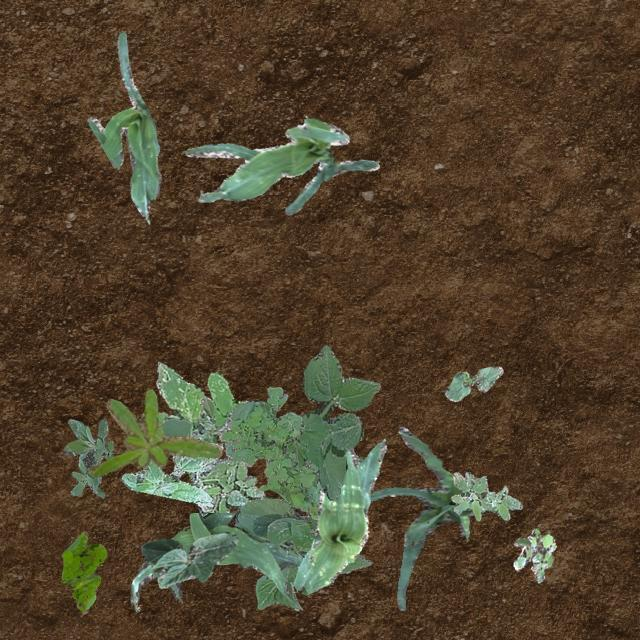crop: (368, 426, 474, 610), (182, 115, 378, 214), (130, 512, 302, 610), (234, 496, 372, 610), (292, 438, 386, 594), (86, 31, 160, 218), (158, 396, 254, 458), (140, 532, 236, 588), (443, 366, 502, 400)
weed: (286, 344, 379, 498), (218, 386, 320, 518), (88, 388, 220, 476), (154, 362, 240, 442), (192, 442, 264, 516), (120, 452, 212, 506), (62, 418, 112, 497), (60, 530, 106, 610), (450, 470, 520, 520), (512, 528, 556, 582), (358, 456, 364, 460)
